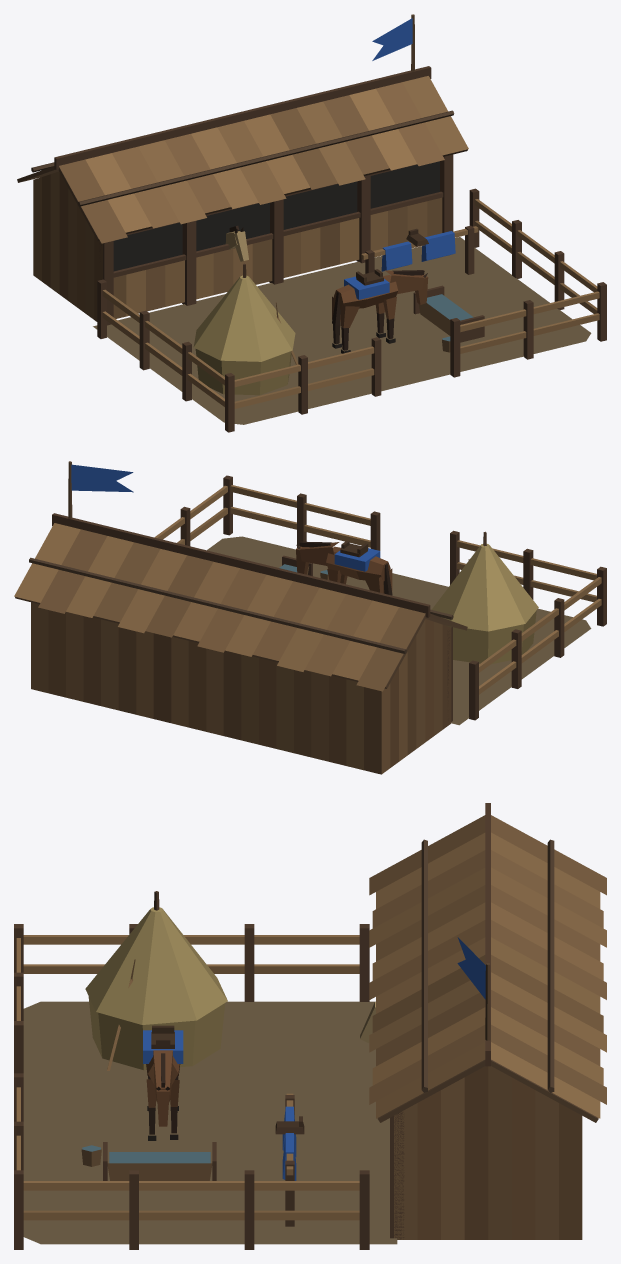
Rendered from stable.glb.
3 renders of one model, top to bottom at view 1: azimuth 30°, elevation 25°; view 2: azimuth 150°, elevation 25°; view 3: azimuth 270°, elevation 25°, orthographic. The views are drawn at different scales.
Parts seen in each view (by area): view 1: stable; view 2: stable; view 3: stable.
Boxes of the visible parts, left/top/right/bottom form: stable: left=17, top=14, right=606, bottom=432; stable: left=14, top=461, right=606, bottom=774; stable: left=14, top=803, right=606, bottom=1249.
Bounding box in the file's own units: 9.11 × 4.65 × 9.12.
